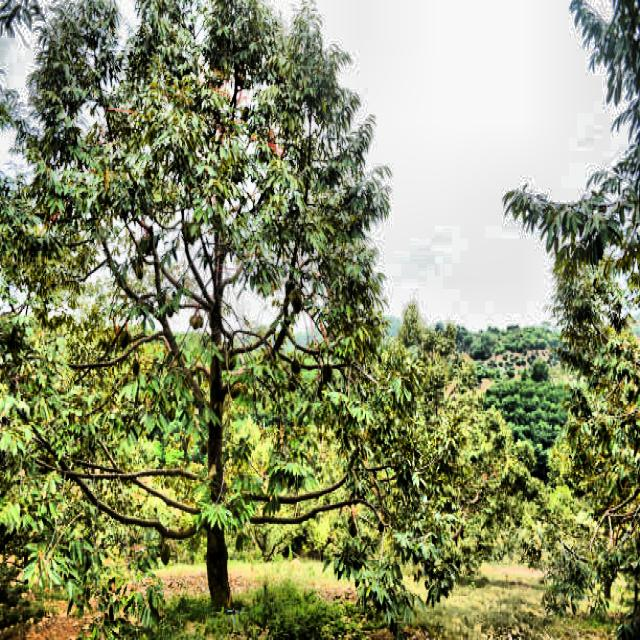arvore: (193, 188, 242, 616)
